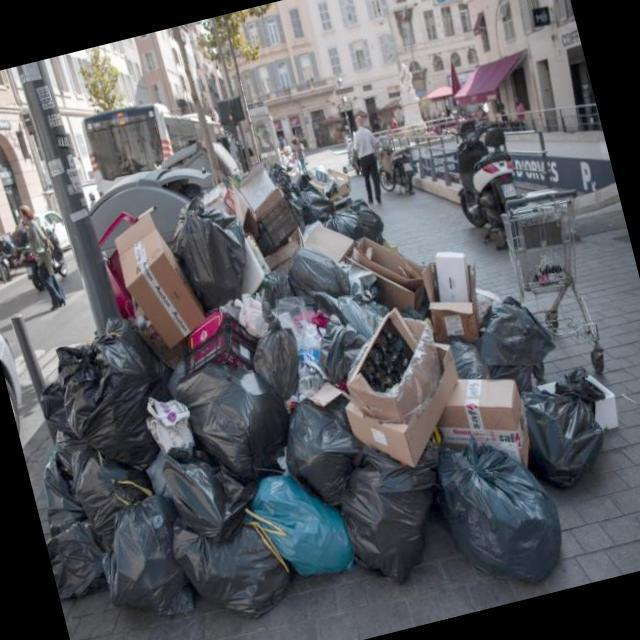garbage: (0, 219, 610, 640), (160, 132, 392, 304), (511, 342, 638, 500), (84, 188, 192, 326)
